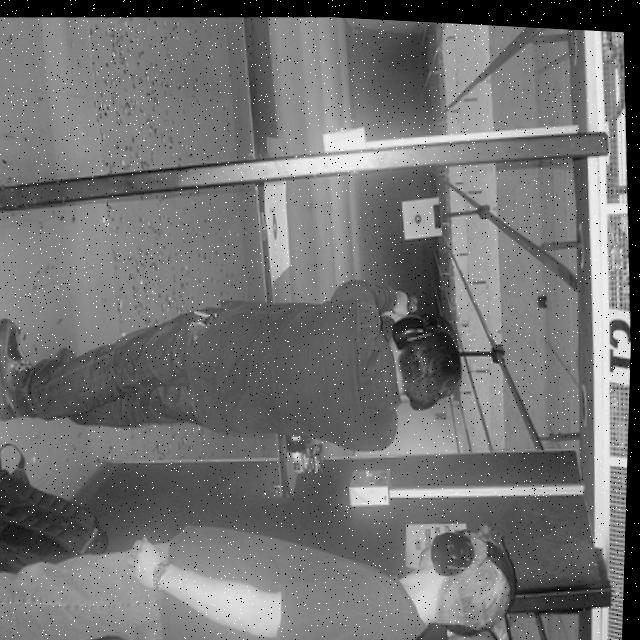pistol: (408, 287, 422, 311)
